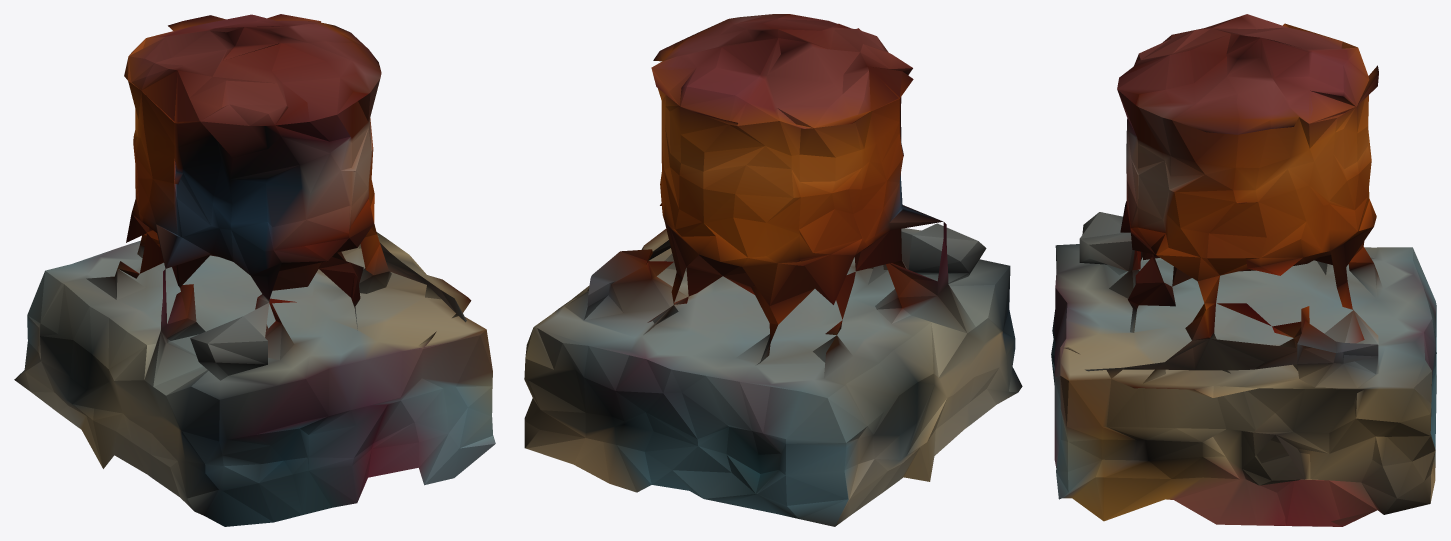
3 views of the same model, side by side, from view 1: azimuth 30°, elevation 25°; view 2: azimuth 150°, elevation 25°; view 3: azimuth 270°, elevation 25° (orthographic).
Bounding box in the file's own units: 6 × 7 × 6.
